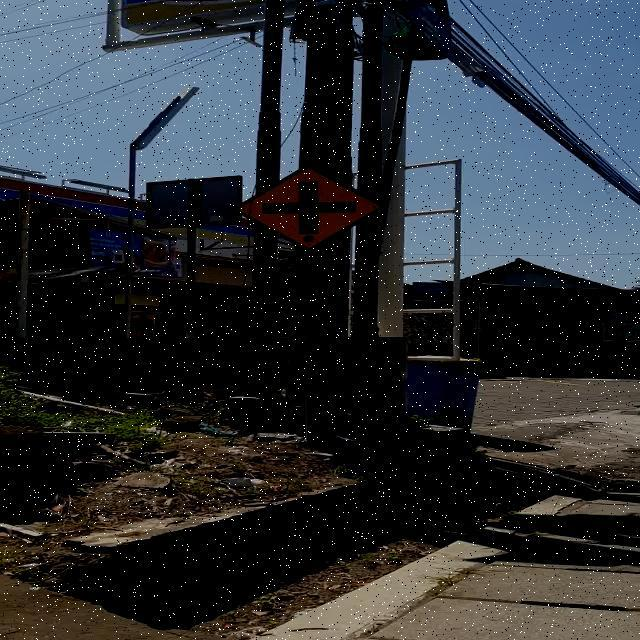Persimpangan 4: (238, 166, 382, 250)
